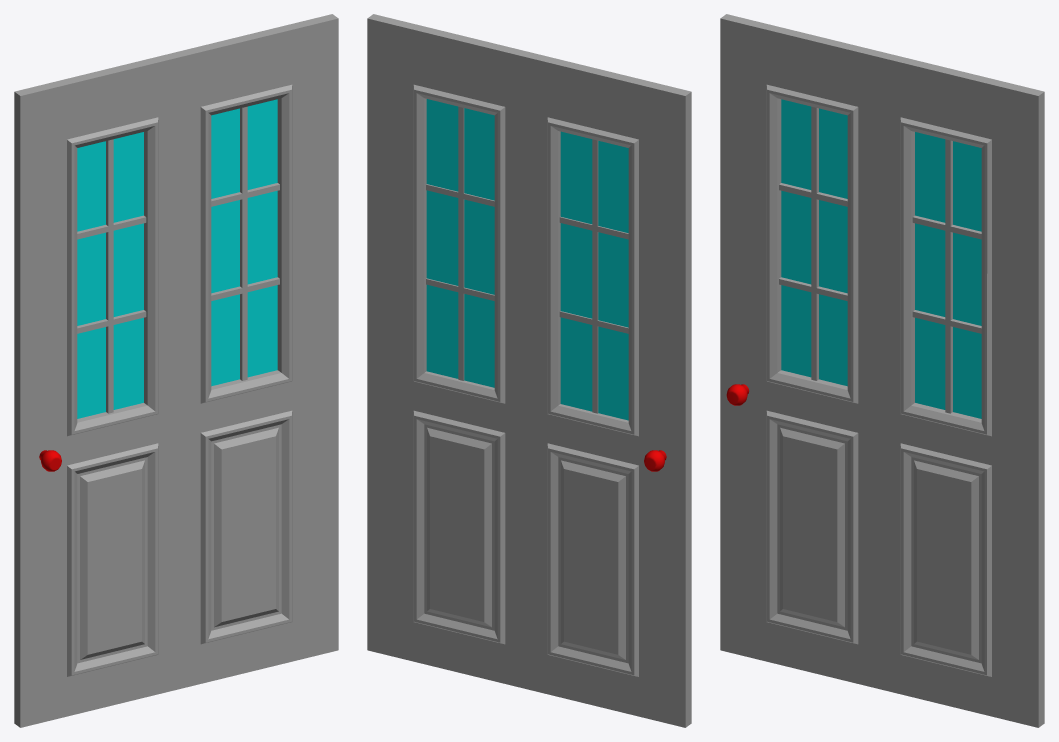
Rendered from Mesh_Door_01.FBX.
3 renders of one model, left to right at view 1: azimuth 30°, elevation 25°; view 2: azimuth 150°, elevation 25°; view 3: azimuth 330°, elevation 25°, orthographic.
Visible parts, largest first — view 1: Mesh_Door_01; view 2: Mesh_Door_01; view 3: Mesh_Door_01.
Boxes of the visible parts, x1,y1,x2,y2 form: Mesh_Door_01: (14, 14, 338, 727); Mesh_Door_01: (367, 14, 691, 727); Mesh_Door_01: (720, 14, 1044, 727).
Bounding box in the file's own units: 1.2 × 2.28 × 0.1906.
